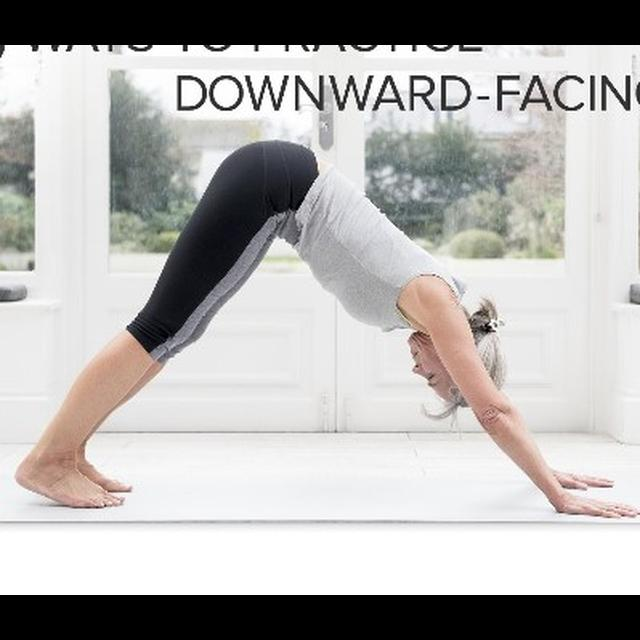Downward-Facing_Dog: (10, 138, 640, 521)
